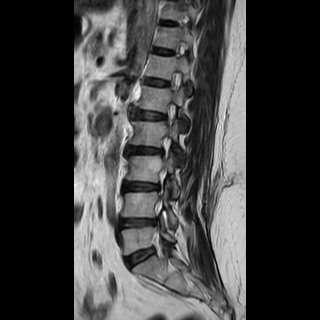LFS0: (152, 130, 176, 163), (159, 96, 181, 130)
